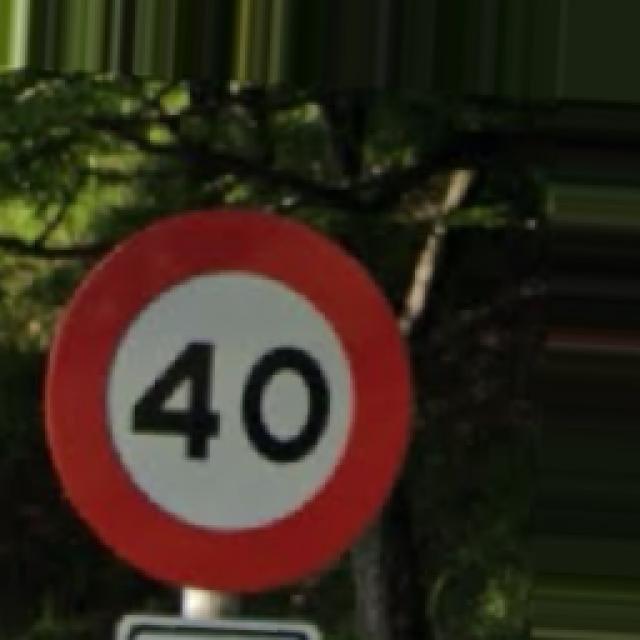Speed Limit -40-: (45, 210, 408, 590)
